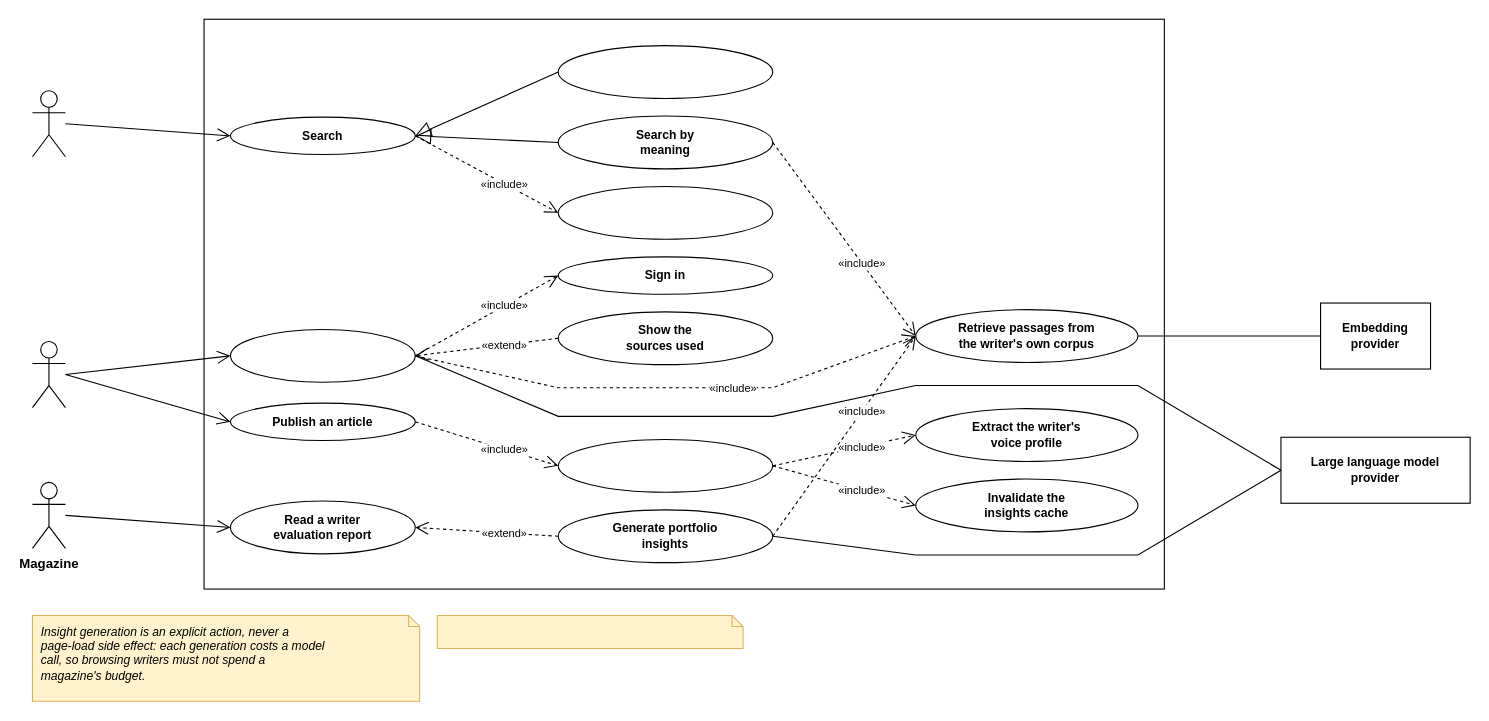
Some shapes in this 1489 by 721 pixel diagram are drawn without their labels. The box of each missing label's shape, as (x1, y1, x2, y2) in pixels:
Embed a published article: (557, 438, 773, 492)
Merge results by reciprocal rank fusion: (557, 185, 773, 239)
Search by keyword: (557, 45, 773, 98)
Use the AI assistant: (229, 328, 415, 382)
Visitor: (31, 90, 65, 157)
Writer: (31, 340, 65, 408)
«Use the AI assistant»: [plan = premium]: (436, 614, 743, 648)
